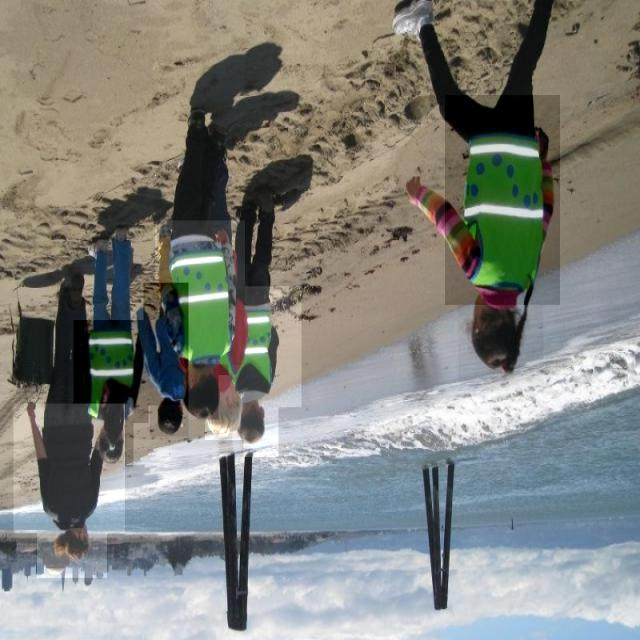Helmet: (13, 404, 125, 534), (458, 295, 544, 391), (144, 283, 188, 405), (37, 508, 107, 578), (205, 375, 251, 440), (80, 419, 134, 466), (180, 356, 218, 420), (244, 393, 278, 457), (150, 391, 188, 436)
Safety Vest: (445, 95, 560, 305), (155, 220, 245, 364), (228, 286, 302, 407), (74, 320, 148, 423)
